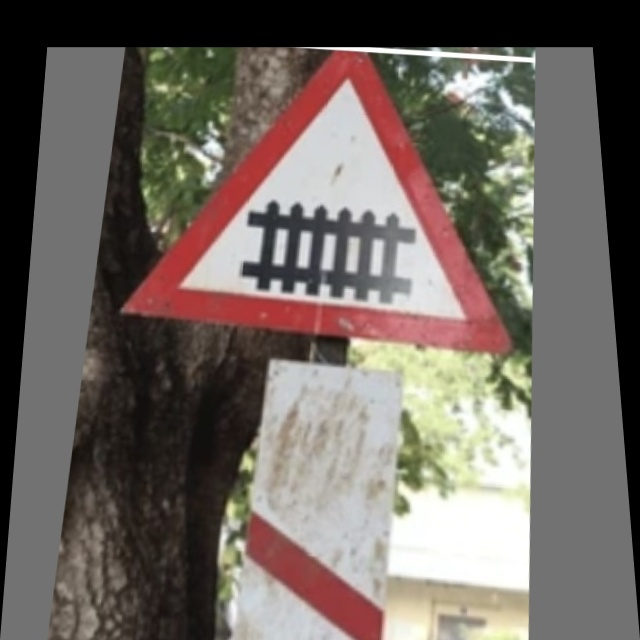Guarded_Level_Crossing: (137, 54, 514, 343)
